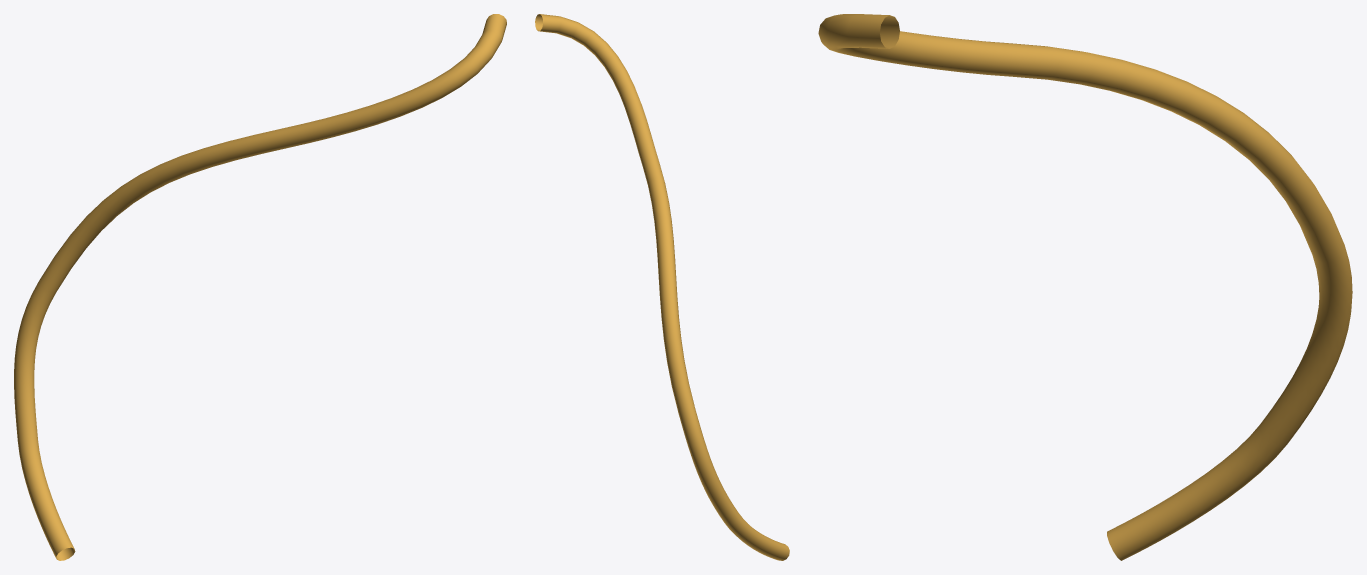
The picture shows the model from 3 angles, left to right: view 1: azimuth 30°, elevation 25°; view 2: azimuth 150°, elevation 25°; view 3: azimuth 270°, elevation 25°; orthographic projection. The views are drawn at different scales.
Parts seen in each view (by area): view 1: 左侧下颌下腺管; view 2: 左侧下颌下腺管; view 3: 左侧下颌下腺管.
Boxes of the visible parts, left/top/right/bottom form: 左侧下颌下腺管: left=14, top=14, right=506, bottom=560; 左侧下颌下腺管: left=535, top=14, right=789, bottom=560; 左侧下颌下腺管: left=818, top=14, right=1352, bottom=560.
Bounding box in the file's own units: 0.0305 × 0.0396 × 0.0232.
